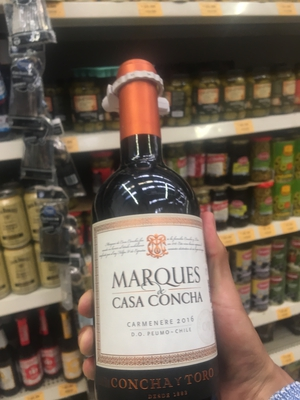marques de casa concha carmenere: (84, 59, 222, 400)
